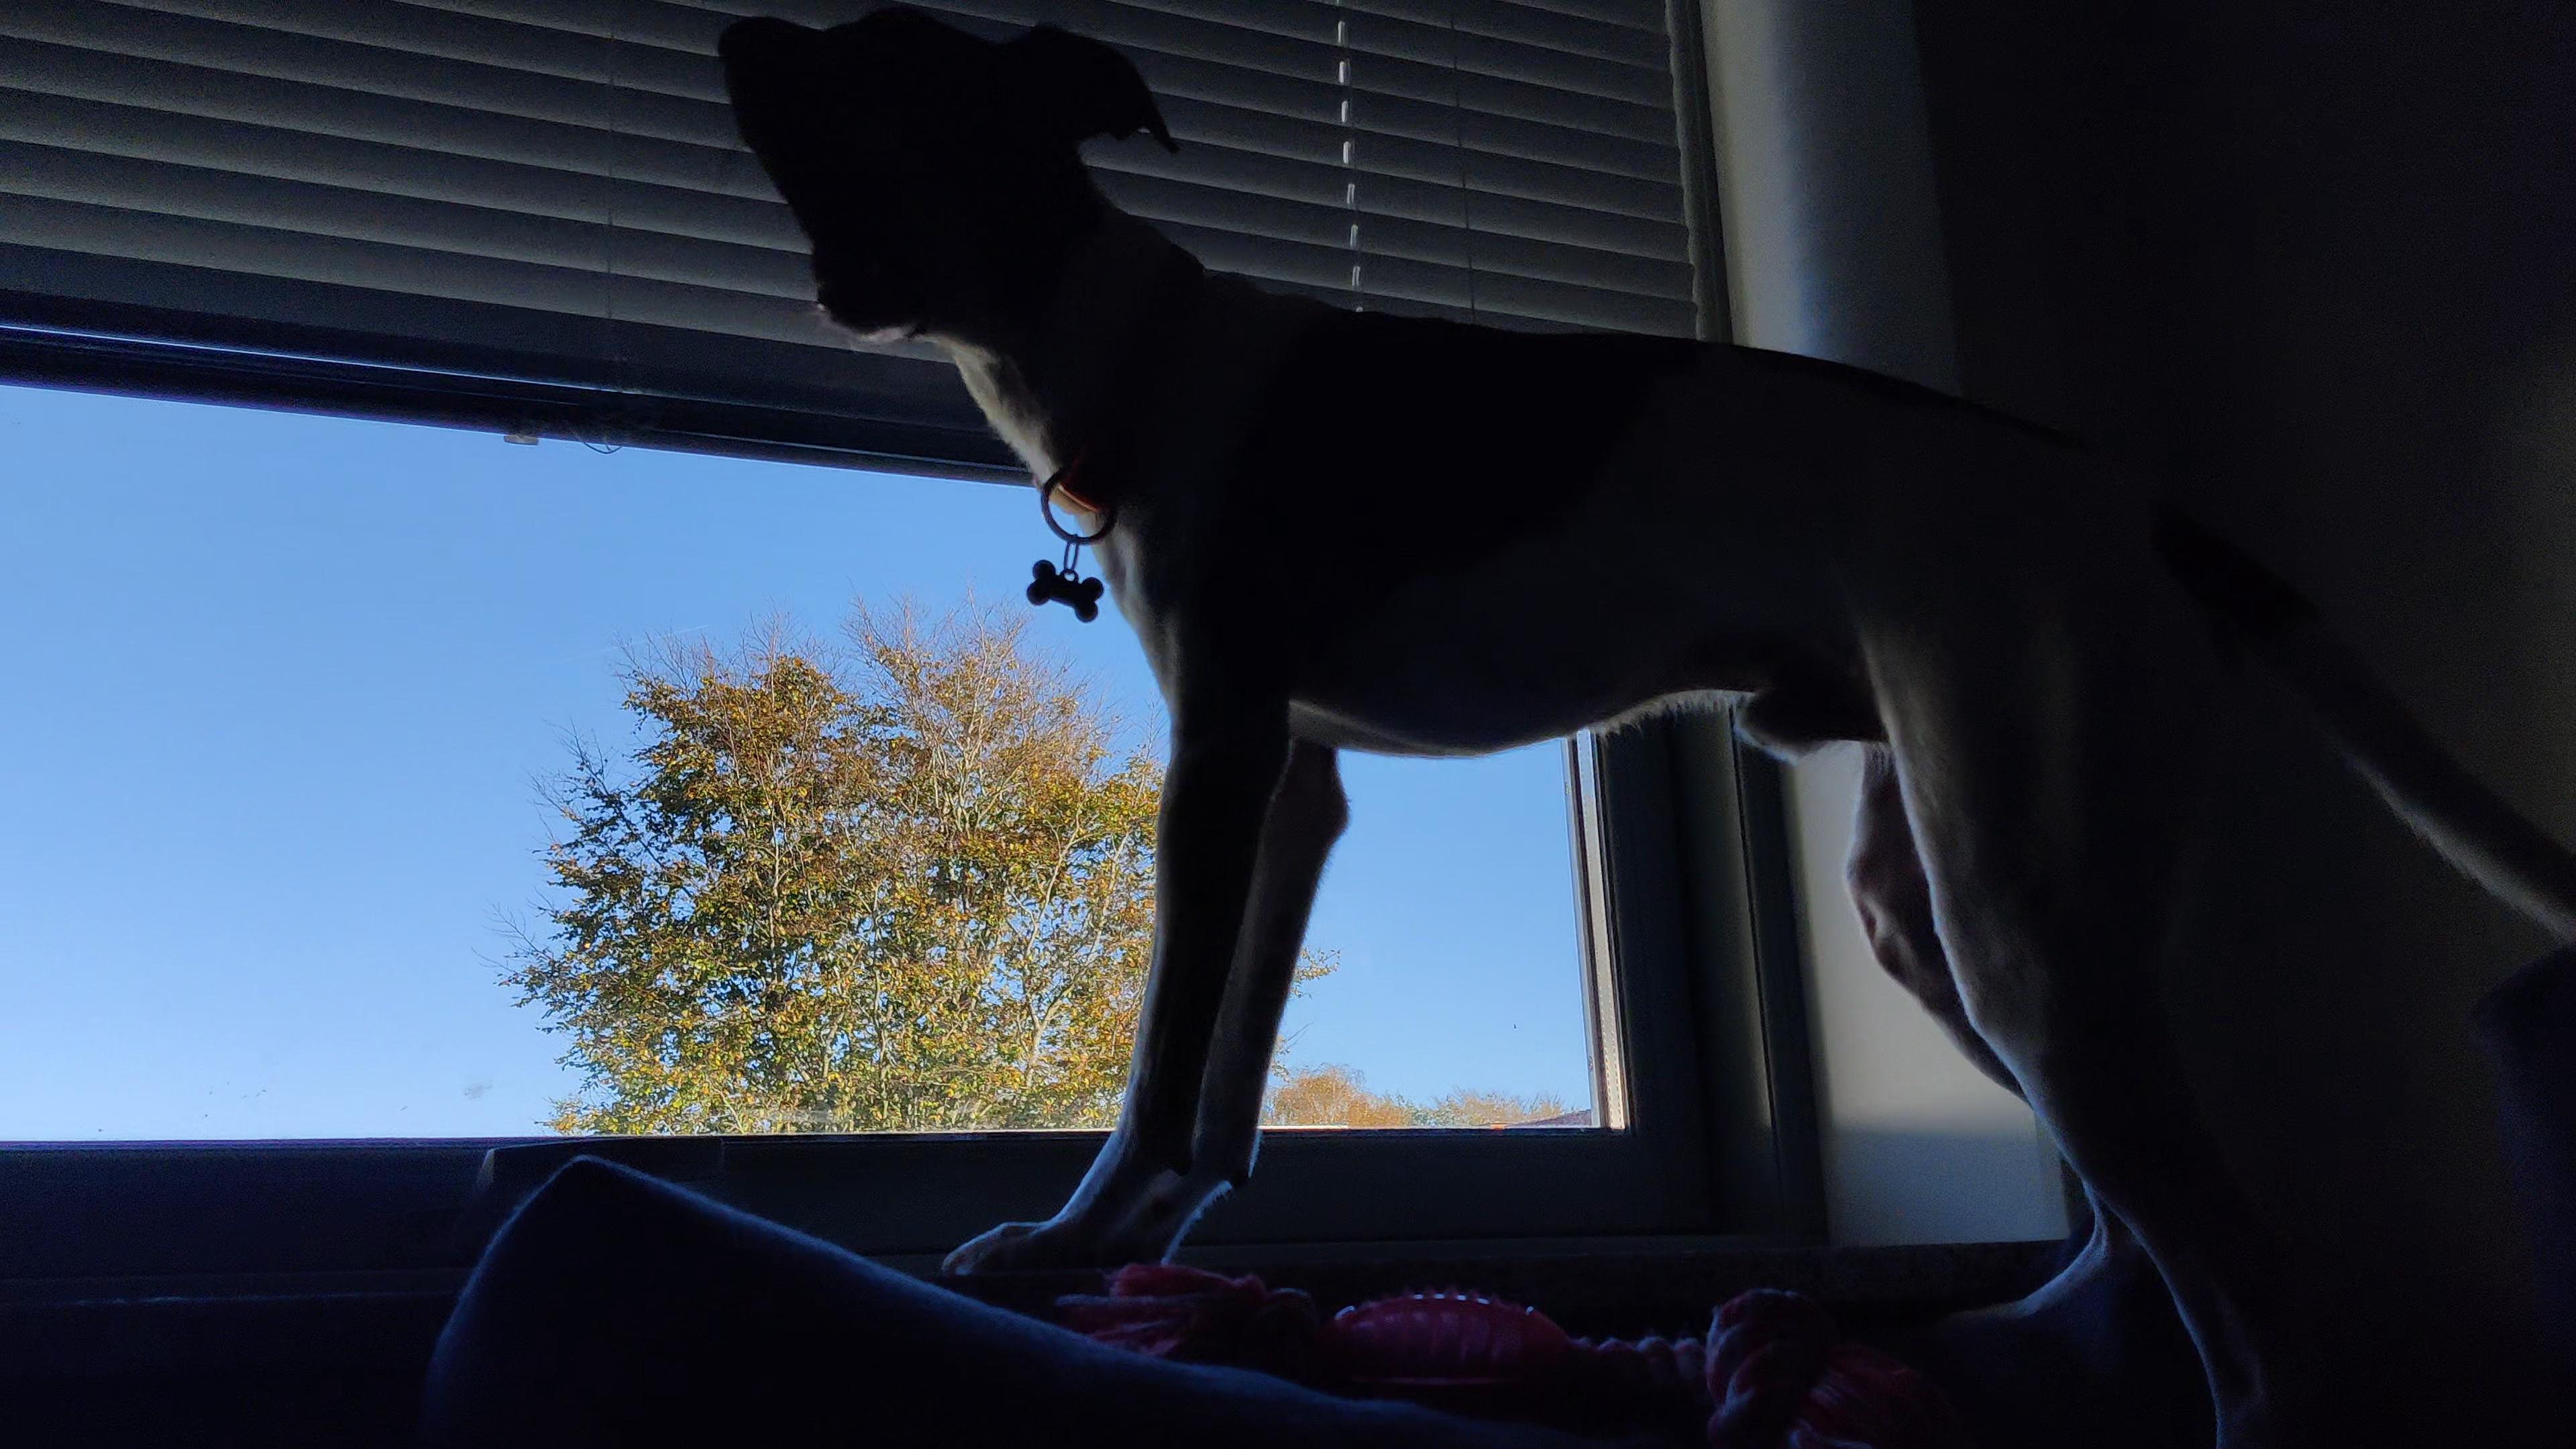Dog: (699, 0, 2576, 1449)
